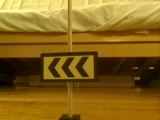left: (41, 53, 97, 79)
